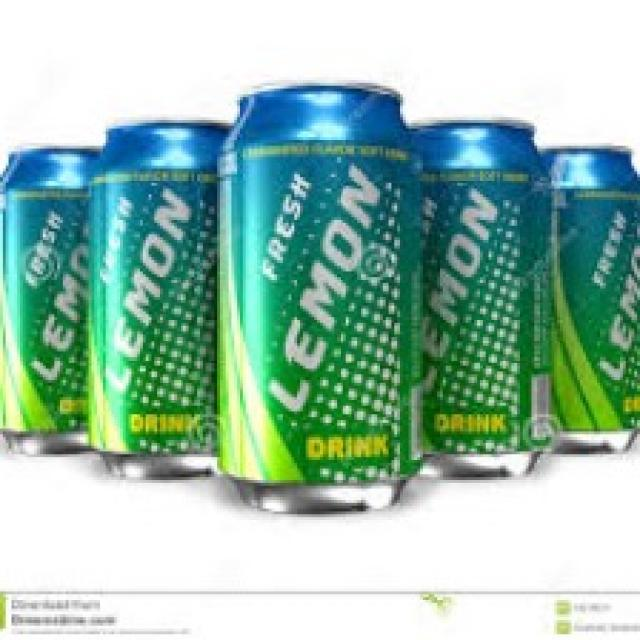metel: (216, 81, 419, 524)
